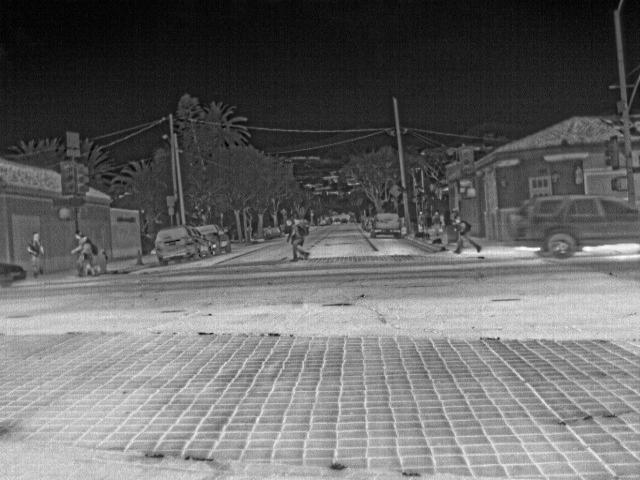car: (504, 193, 640, 259), (154, 225, 210, 266), (203, 222, 233, 254), (371, 211, 402, 238), (1, 262, 26, 290), (359, 214, 372, 230), (320, 216, 331, 226)
person: (449, 210, 484, 254), (75, 228, 100, 276), (287, 218, 309, 262), (29, 229, 46, 278), (431, 209, 444, 233), (418, 209, 427, 231)
